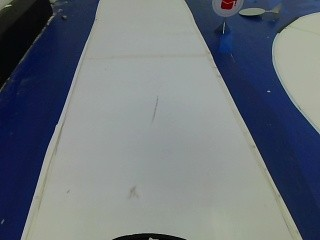school: (209, 0, 245, 20)
